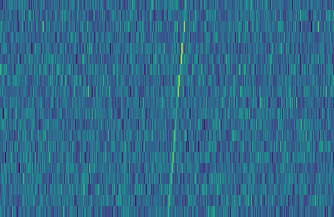signal: (163, 0, 190, 217)
